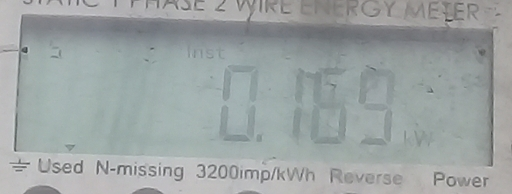0: (212, 61, 259, 144)
1: (287, 57, 305, 142)
6: (309, 63, 351, 147)
9: (356, 56, 400, 151)
d: (255, 130, 267, 146)
